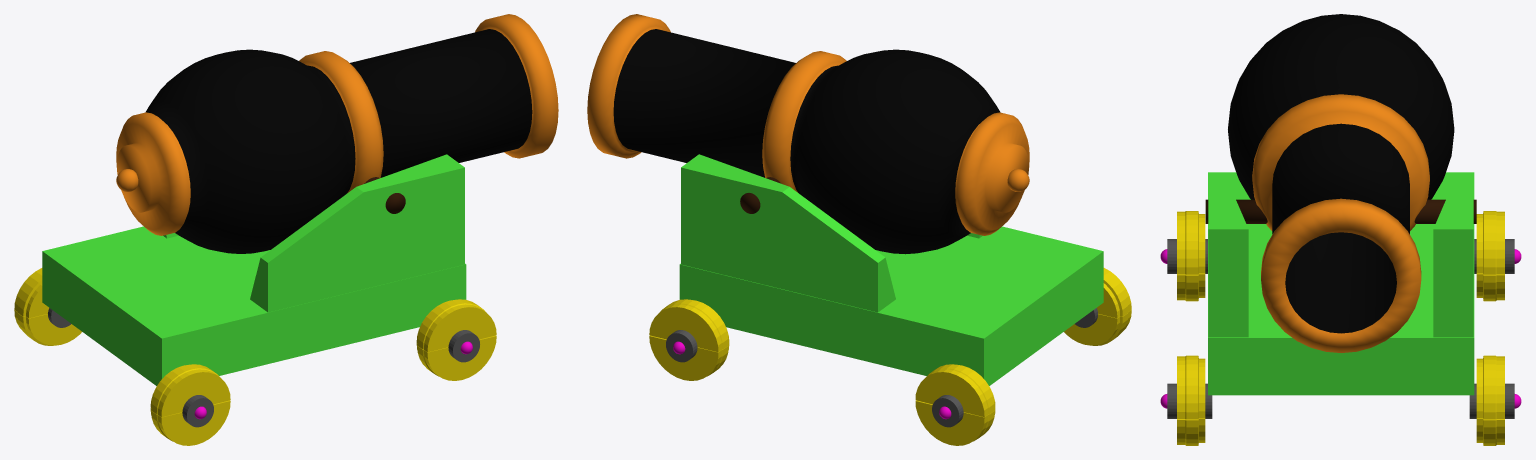
File: Cannon_2.fbx
3 views of the same model, side by side, from view 1: azimuth 30°, elevation 25°; view 2: azimuth 150°, elevation 25°; view 3: azimuth 270°, elevation 25° (orthographic). The views are drawn at different scales.
Parts seen in each view (by area): view 1: Cube.009; view 2: Cube.009; view 3: Cube.009.
Boxes of the visible parts, left/top/right/bottom form: Cube.009: left=14, top=14, right=558, bottom=445; Cube.009: left=587, top=14, right=1131, bottom=445; Cube.009: left=1160, top=14, right=1521, bottom=445.
Bounding box in the file's own units: 1261 × 828 × 804.
